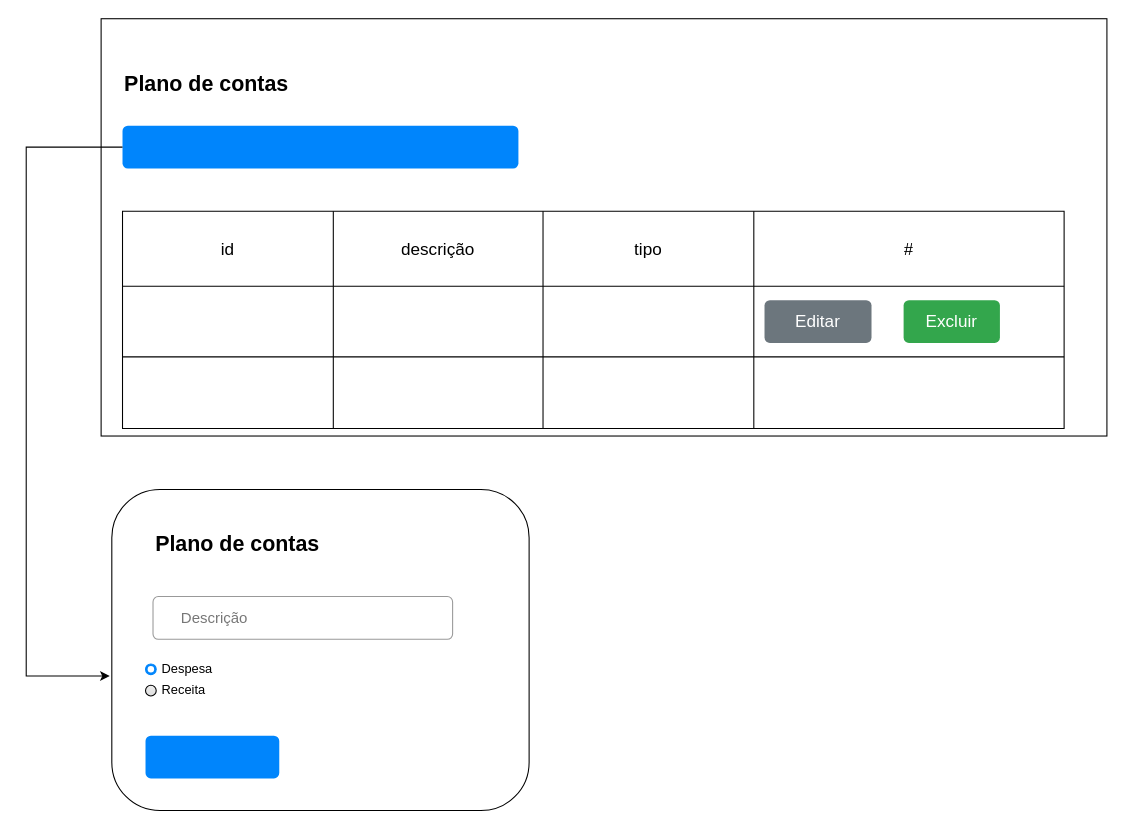
Image size: 1126x829. Some labels were removed from this diagram. The shapes that lost their labels are listed below. From the top down, each one's box as (x1, y1, x2, y2) in pixels, then its label:
(122, 125, 518, 168): Criar um item no plano de conta
(145, 735, 279, 778): Registrar
